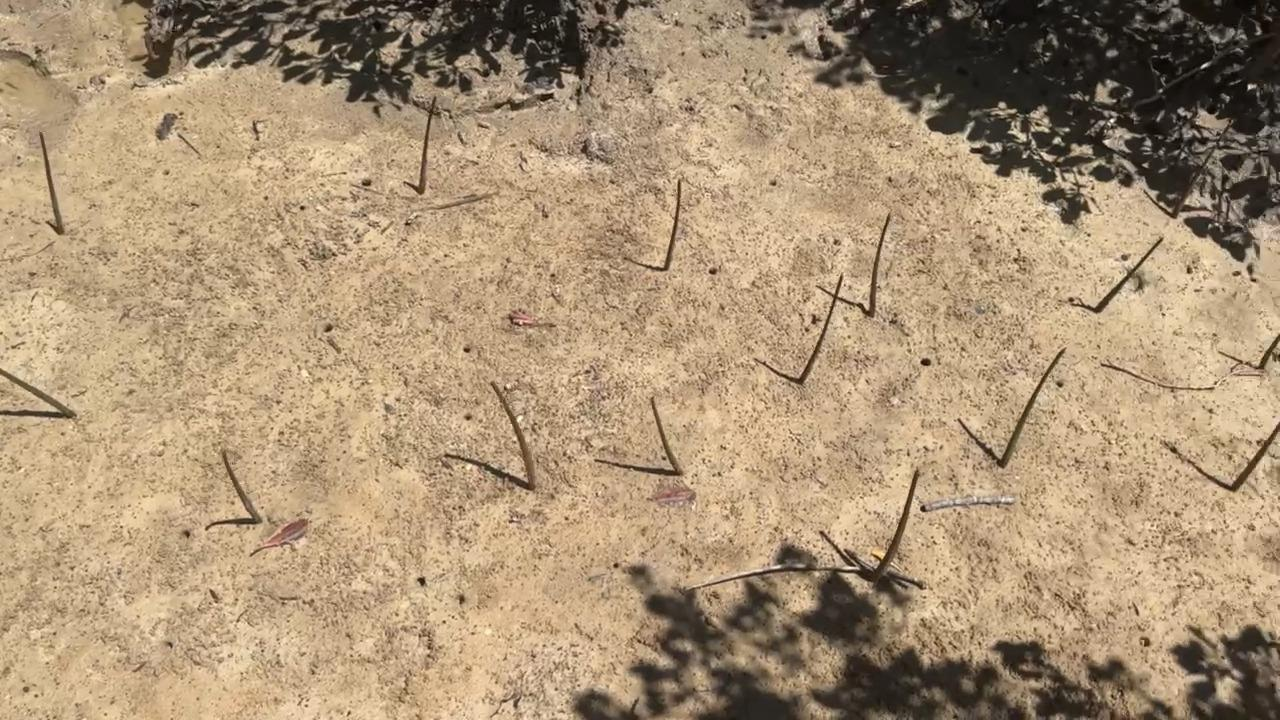Tree: (998, 346, 1068, 469), (1170, 118, 1233, 220), (867, 468, 922, 583), (1093, 236, 1165, 314), (489, 379, 538, 492), (796, 273, 845, 385), (0, 366, 77, 419), (1229, 421, 1280, 494), (220, 449, 264, 524), (650, 395, 685, 476), (39, 130, 65, 235), (868, 213, 891, 318), (417, 95, 438, 196), (663, 178, 682, 272), (1255, 333, 1280, 372)
